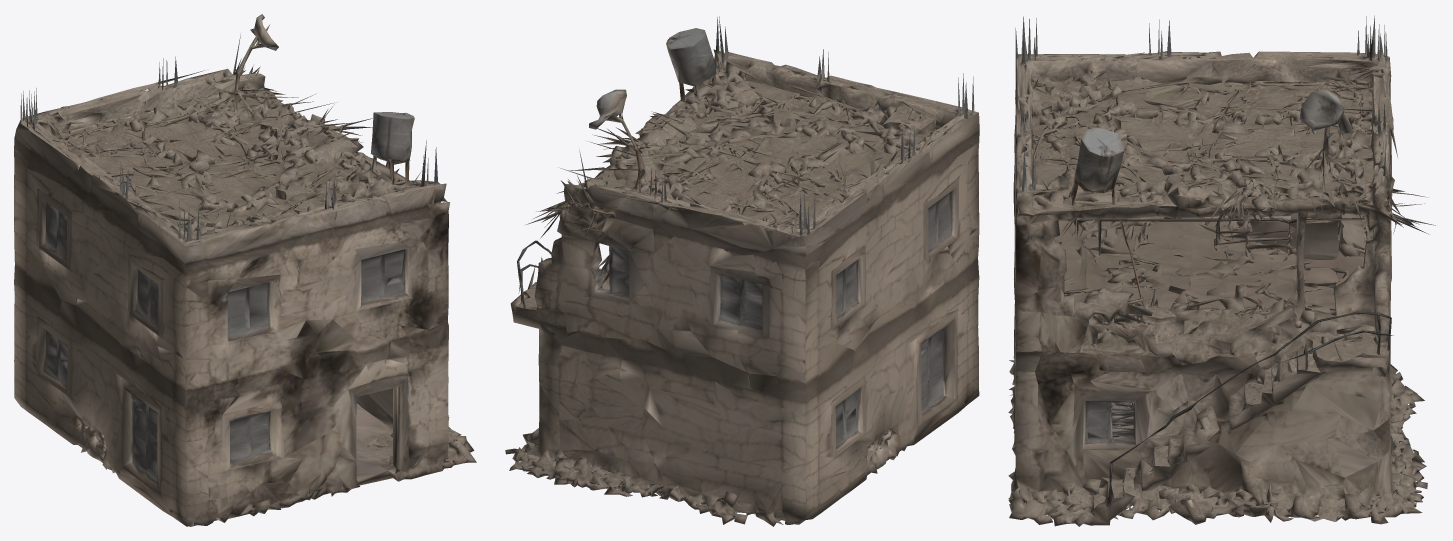
Rendered from house_wreck.glb.
3 views of the same model, side by side, from view 1: azimuth 30°, elevation 25°; view 2: azimuth 150°, elevation 25°; view 3: azimuth 270°, elevation 25° (orthographic). The views are drawn at different scales.
Parts seen in each view (by area): view 1: wall, roof; view 2: wall, roof; view 3: wall, roof.
Part boxes in pixels (bbox=[...]): wall: bbox=[14, 14, 476, 526]; roof: bbox=[22, 73, 416, 480]; wall: bbox=[505, 16, 979, 526]; roof: bbox=[514, 28, 936, 468]; wall: bbox=[1008, 15, 1435, 526]; roof: bbox=[1023, 51, 1414, 521].
Size of the model in its own units: 11.44 by 12.72 by 12.66.
Materials: 1 (1 with a texture image).
